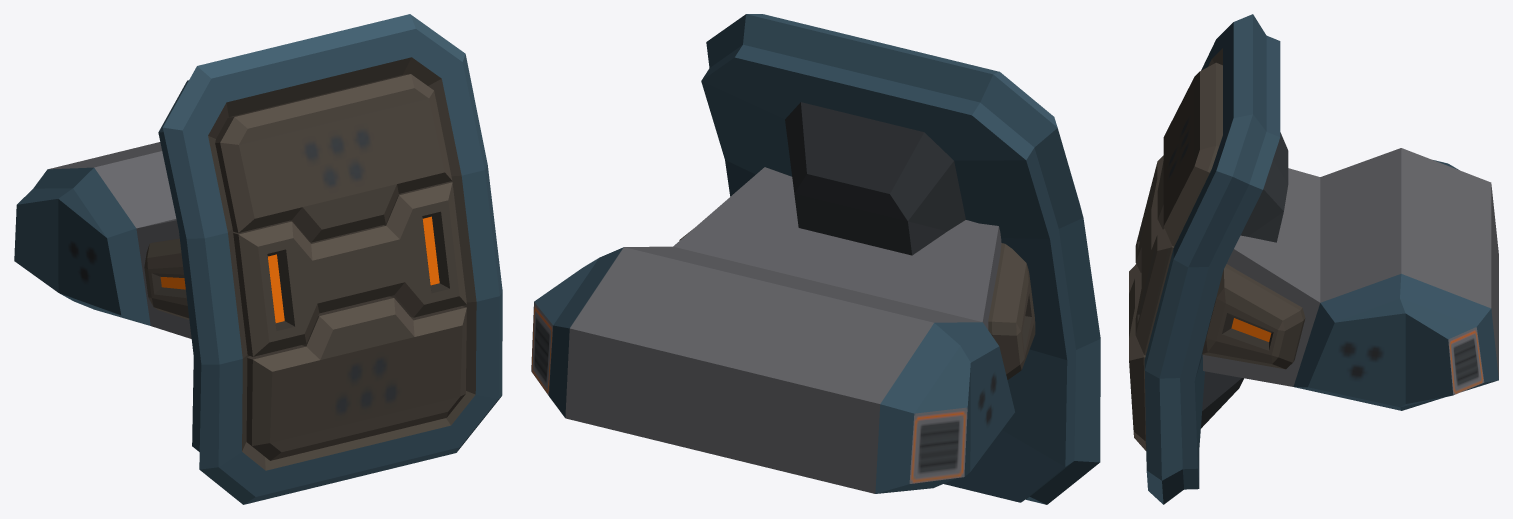
The model's file is SM_Mech_Leg_01_Armor_Kneepad_02.fbx.
3 renders of one model, left to right at view 1: azimuth 30°, elevation 25°; view 2: azimuth 150°, elevation 25°; view 3: azimuth 270°, elevation 25°, orthographic. The views are drawn at different scales.
Visible parts, largest first — view 1: SM_Mech_Leg_01_Armor_Kneepad_02; view 2: SM_Mech_Leg_01_Armor_Kneepad_02; view 3: SM_Mech_Leg_01_Armor_Kneepad_02.
Part boxes in pixels (x1,y1,x2,y2): SM_Mech_Leg_01_Armor_Kneepad_02: [14, 14, 502, 504]; SM_Mech_Leg_01_Armor_Kneepad_02: [531, 14, 1100, 504]; SM_Mech_Leg_01_Armor_Kneepad_02: [1129, 14, 1498, 504].
Size of the model in its own units: 62.91 by 65.14 by 55.91.
